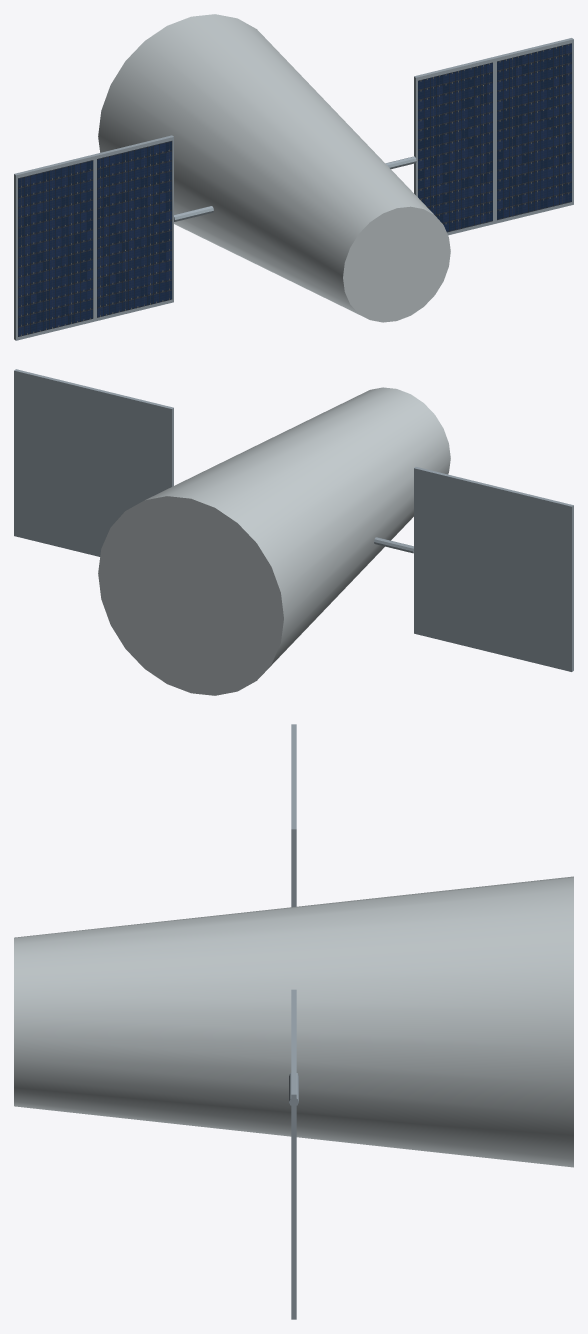
Rendered from ref-opsat-3000-54880.glb.
3 views of the same model, one above another, from view 1: azimuth 30°, elevation 25°; view 2: azimuth 150°, elevation 25°; view 3: azimuth 270°, elevation 25° (orthographic). The views are drawn at different scales.
Parts seen in each view (by area): view 1: Spacecraft body, Photovoltaic laminates (×4), Array frame (×4); view 2: Spacecraft body, Array frame (×4); view 3: Spacecraft body, Array frame (×2).
Boxes of the visible parts, <box> form: Spacecraft body: <box>98,14,450,322</box>; Photovoltaic laminates (×4): <box>18,43,571,336</box>; Array frame (×4): <box>14,38,573,340</box>; Spacecraft body: <box>98,387,450,695</box>; Array frame (×4): <box>14,369,573,671</box>; Spacecraft body: <box>14,876,573,1167</box>; Array frame (×2): <box>291,776,296,1319</box>.
Size of the model in its own units: 3.6 by 1.2 by 2.3.
3 materials, 1 textured.
